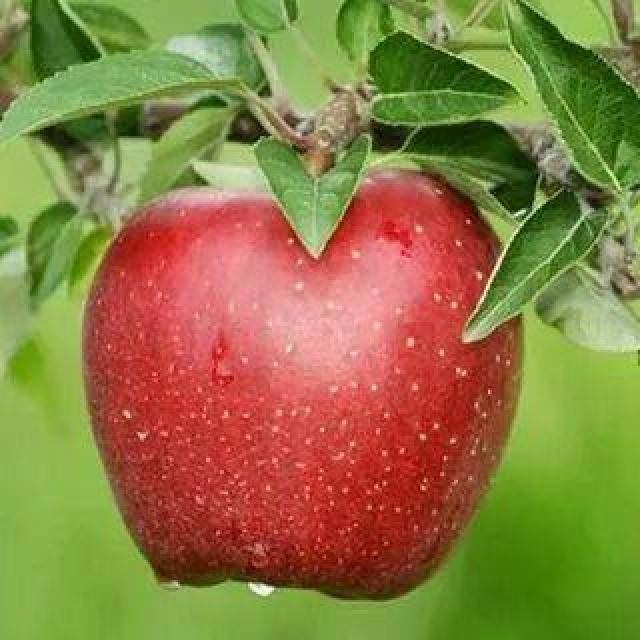Rotten Apple: (82, 166, 526, 598)
